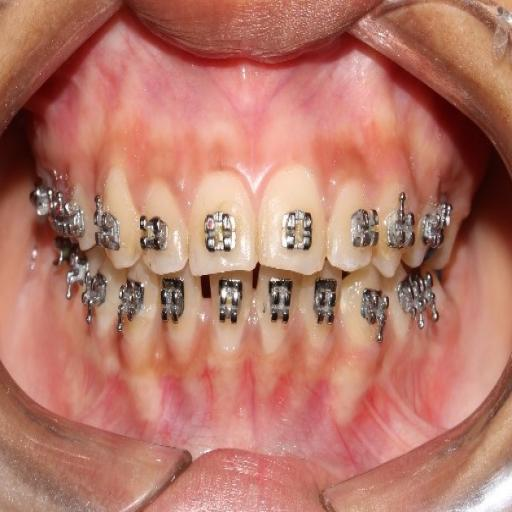correct_brace: (282, 206, 316, 254), (203, 206, 237, 252), (137, 210, 167, 258), (388, 202, 414, 252), (94, 208, 120, 250), (354, 205, 378, 250)
incorrect_brace: (326, 180, 374, 267), (140, 182, 186, 270)
